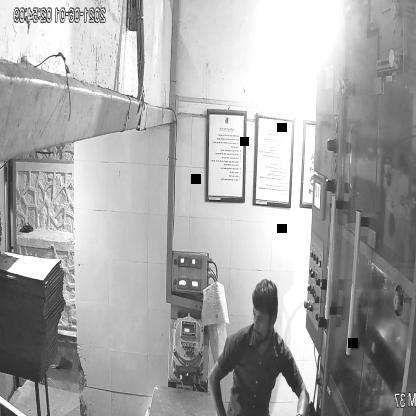no_goggles: (249, 308, 280, 332)
